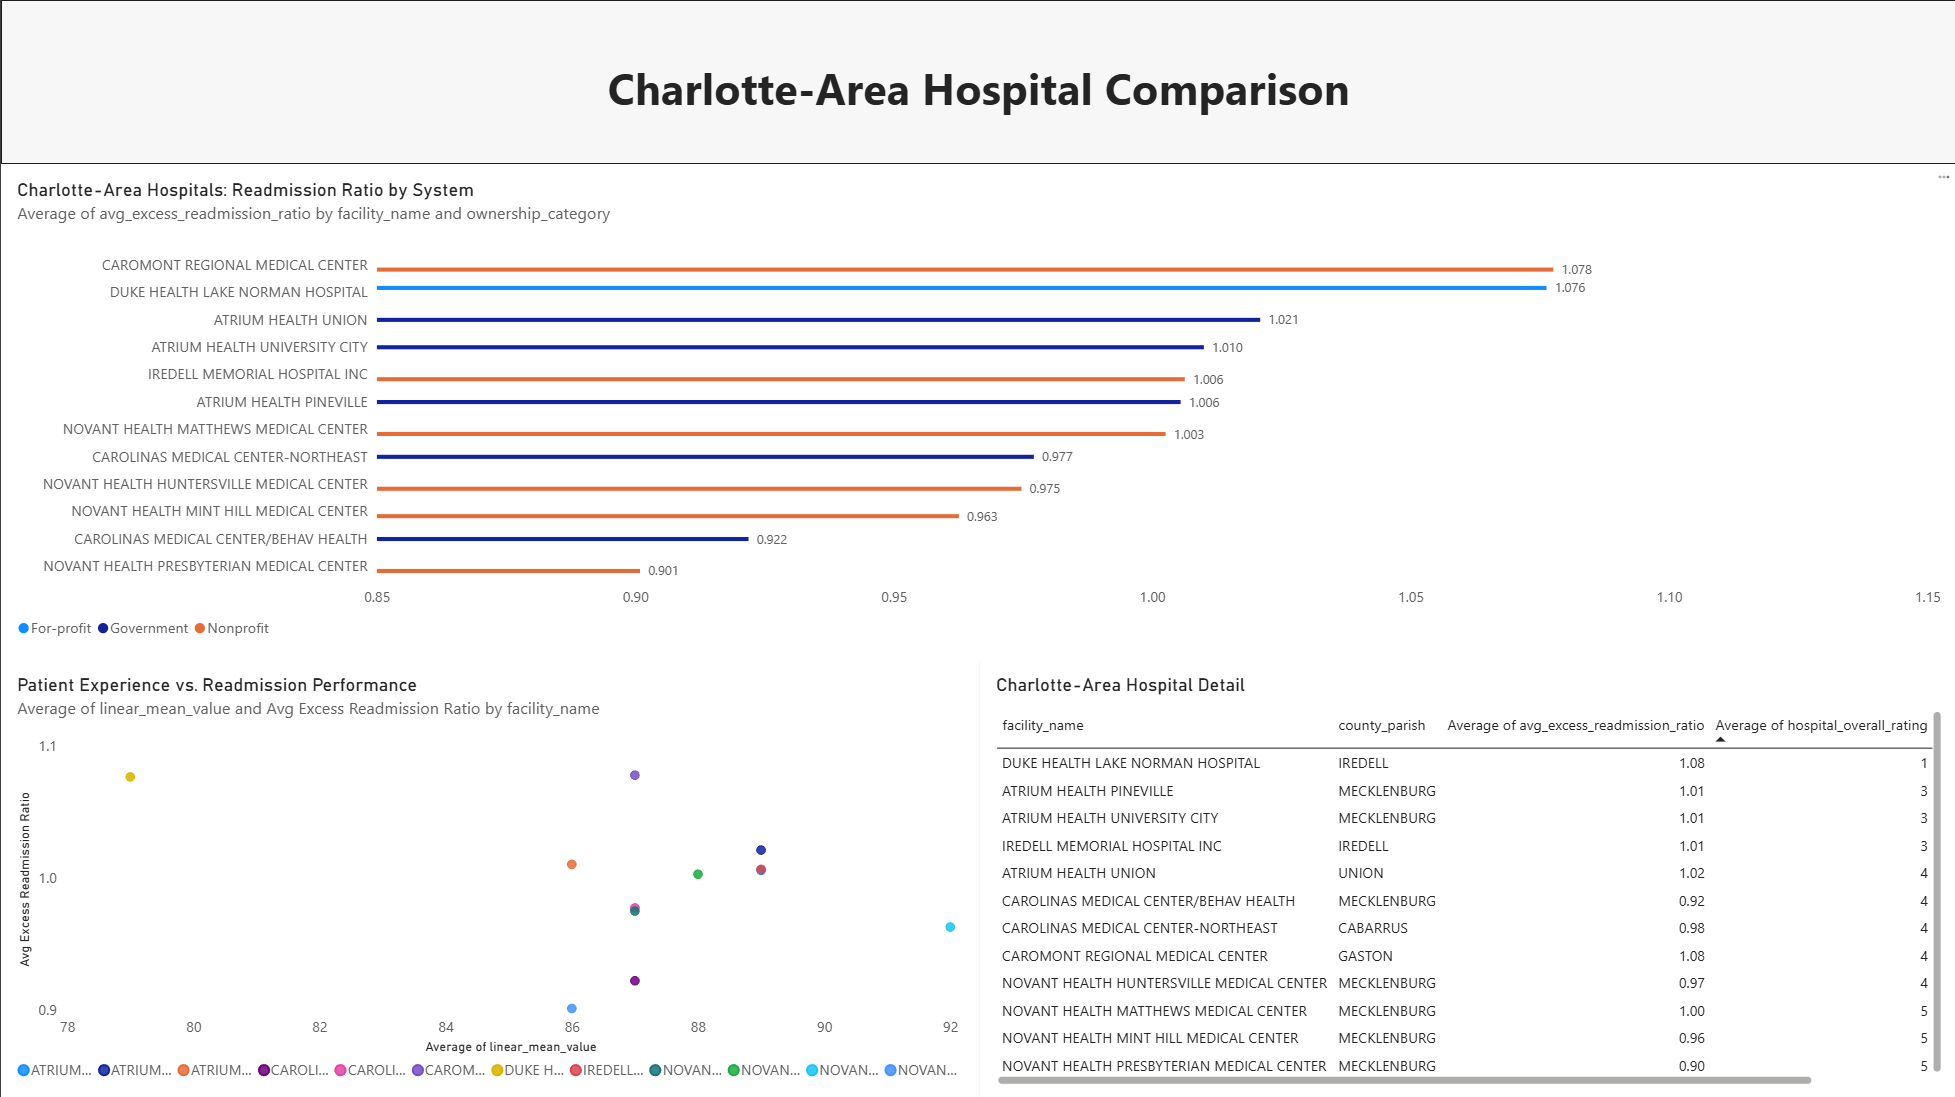

This screenshot's page, from the dashboard's own definition file:
{"tool":"powerbi","page":{"name":"Charlotte-area Comparison","canvas":[1920,1080],"ordinal":1},"visuals":[{"type":"clusteredBarChart","title":"Charlotte-Area Hospitals: Readmission Ratio by System","fields":{"Category":["nc_hospital_readmission_summary.facility_name"],"Series":["nc_hospital_readmission_summary.ownership_category"],"Y":["Avg(nc_hospital_readmission_summary.avg_excess_readmission_ratio)"]},"box":[0,160.9,1920,485.7],"z":0},{"type":"scatterChart","title":"Patient Experience vs. Readmission Performance","fields":{"Series":["nc_hospital_readmission_summary.facility_name"],"X":["Avg(clean_hcahps.linear_mean_value)"],"Y":["clean_hcahps.Avg Excess Readmission Ratio"]},"box":[0,646.7,960.5,433.8],"z":1000},{"type":"tableEx","title":"Charlotte-Area Hospital Detail","fields":{"Values":["nc_hospital_readmission_summary.facility_name","nc_hospital_readmission_summary.county_parish","Avg(nc_hospital_readmission_summary.avg_excess_readmission_ratio)","Avg(nc_hospital_readmission_summary.hospital_overall_rating)","nc_hospital_readmission_summary.ownership_category"]},"box":[960.5,646.7,959.5,433.8],"z":2000},{"type":"textbox","box":[0,0,1920,160.9],"z":3000}]}

Visuals, with their boxes in screenshot pixels (x1, y1, x2, y2), scaled from the page's 1920x1080 canvas onto the 1955x1097 screenshot:
"Charlotte-Area Hospitals: Readmission Ratio by System" clusteredBarChart: <bbox>0, 163, 1954, 657</bbox>
"Patient Experience vs. Readmission Performance" scatterChart: <bbox>0, 657, 978, 1096</bbox>
"Charlotte-Area Hospital Detail" tableEx: <bbox>978, 657, 1954, 1096</bbox>
textbox: <bbox>0, 0, 1954, 163</bbox>
